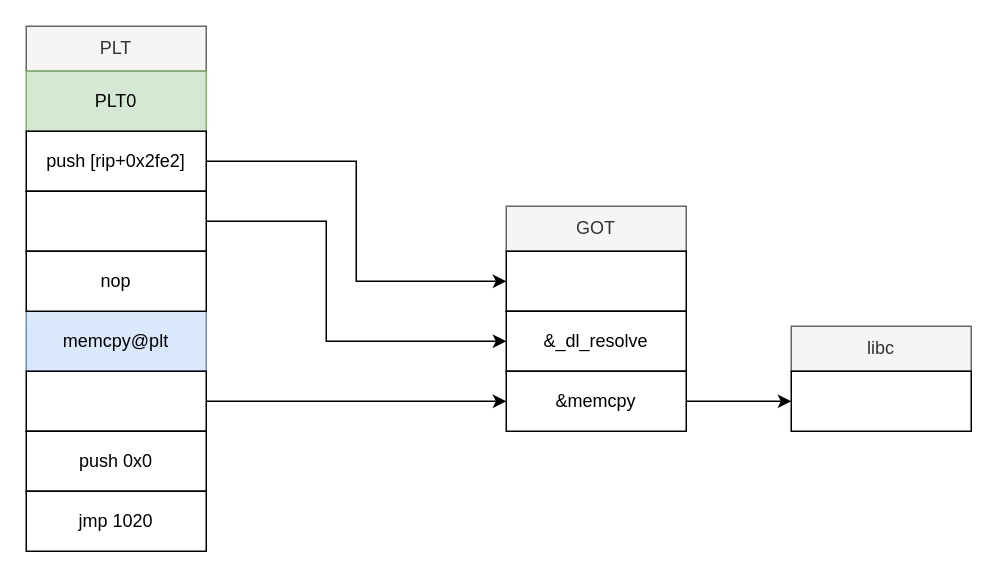
This 998x578 diagram has some shape labels left out. The box of each missing label's shape, as (x1, y1, x2, y2) in pixels:
&link_map: (505, 250, 686, 311)
jmp [rip+0x2fe4]: (25, 190, 206, 251)
jmp [rip+0x2fef]: (25, 370, 206, 431)
memcpy: (790, 370, 971, 431)
